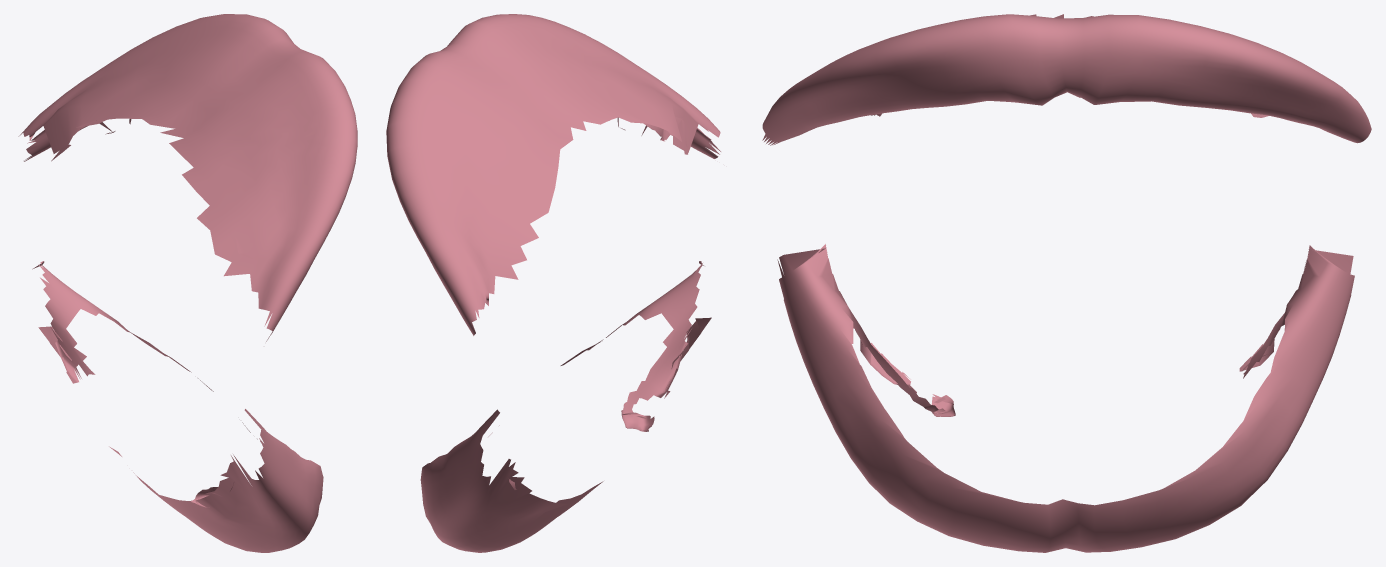
The model's file is realistic-open-mouth-lips-clean-profiled.glb.
The picture shows the model from 3 angles, left to right: view 1: azimuth 30°, elevation 25°; view 2: azimuth 150°, elevation 25°; view 3: azimuth 270°, elevation 25°; orthographic projection. The views are drawn at different scales.
Parts seen in each view (by area): view 1: lips-clean-profiled; view 2: lips-clean-profiled; view 3: lips-clean-profiled.
Boxes of the visible parts, x1=… form: lips-clean-profiled: x1=18, y1=14, x2=357, y2=552; lips-clean-profiled: x1=386, y1=14, x2=720, y2=552; lips-clean-profiled: x1=762, y1=14, x2=1371, y2=552.
Bounding box in the file's own units: 0.3661 × 0.9483 × 0.9184.
